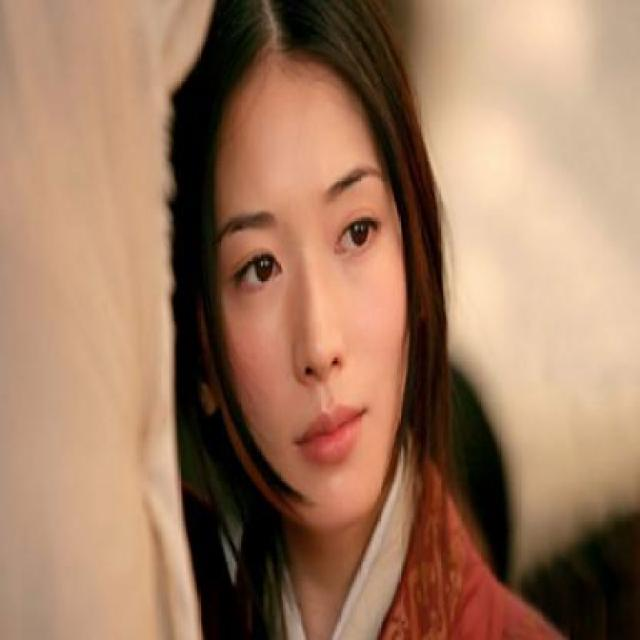sem_oculos: (208, 184, 420, 280)
